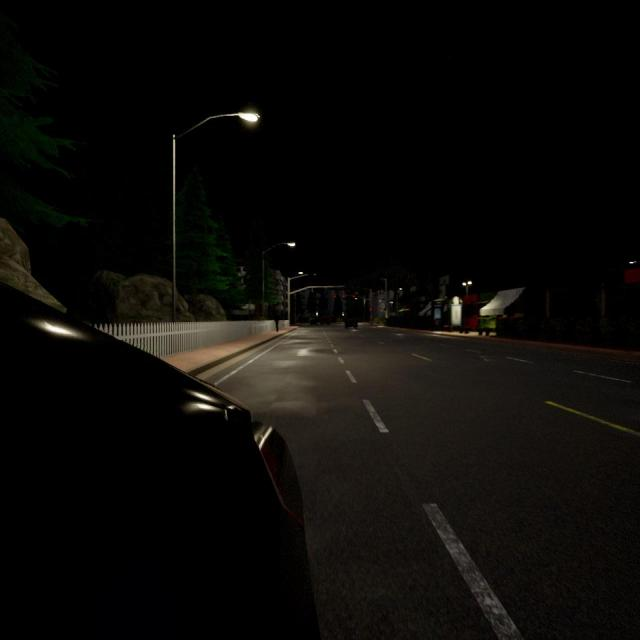Pedestrian: (274, 309, 279, 333)
Vehicle: (0, 285, 318, 639), (344, 312, 358, 329), (320, 313, 331, 326)
traffic_light: (333, 295, 336, 299), (369, 308, 372, 312), (342, 294, 344, 299), (353, 295, 355, 298)
